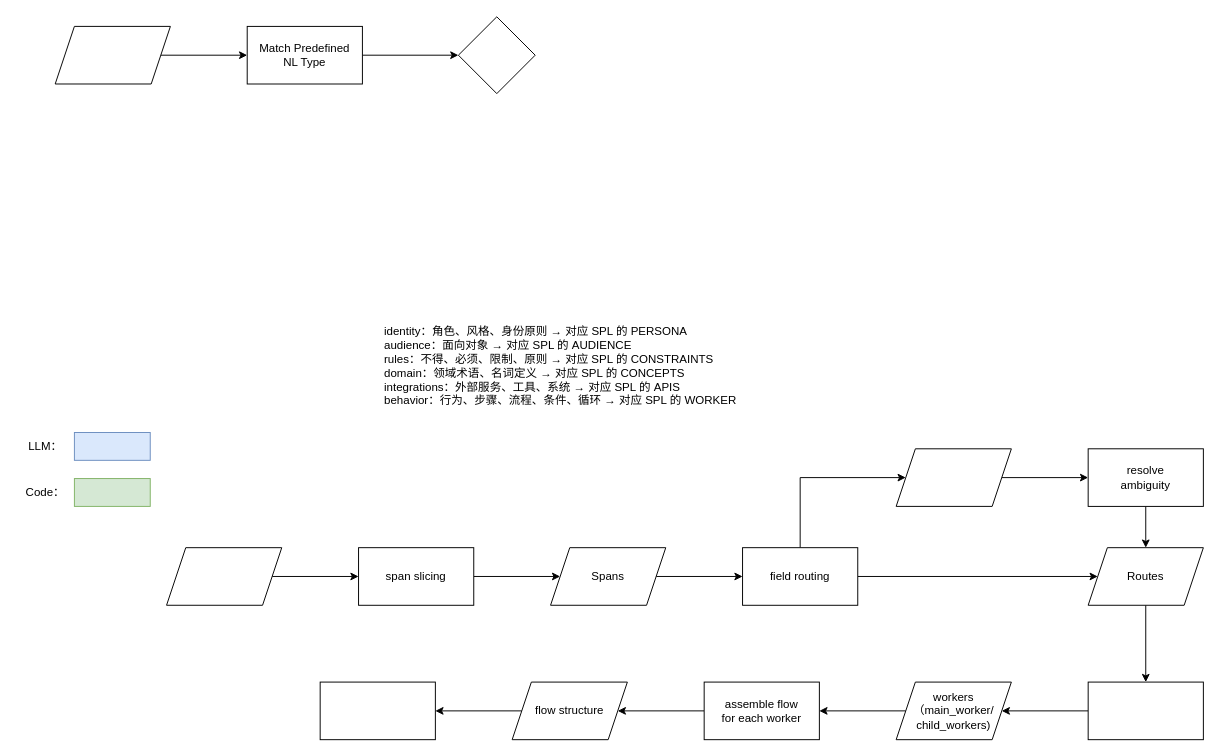
The diagram is 1220 pixels wide and 756 high, and some of its shapes have lost their labels. Here are the shapes that lost their labels. From the top down, the centre of each, then its label:
At (x=112, y=54): "Raw Text".
At (x=953, y=477): "Ambiguous Routes".
At (x=224, y=576): "Canonical Compile Input".
At (x=377, y=710): "assemble block for each flow".
At (x=1145, y=710): "plan worker boundary".
